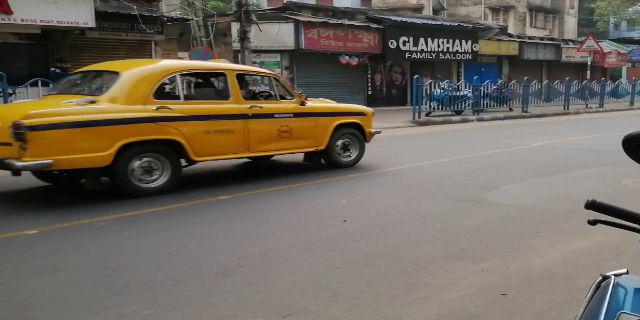Car: (10, 63, 377, 190)
